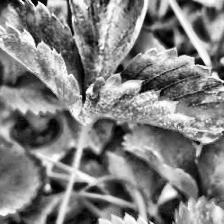Powdery Mildew Leaf: (77, 46, 224, 144), (0, 0, 84, 119), (67, 0, 154, 93)
